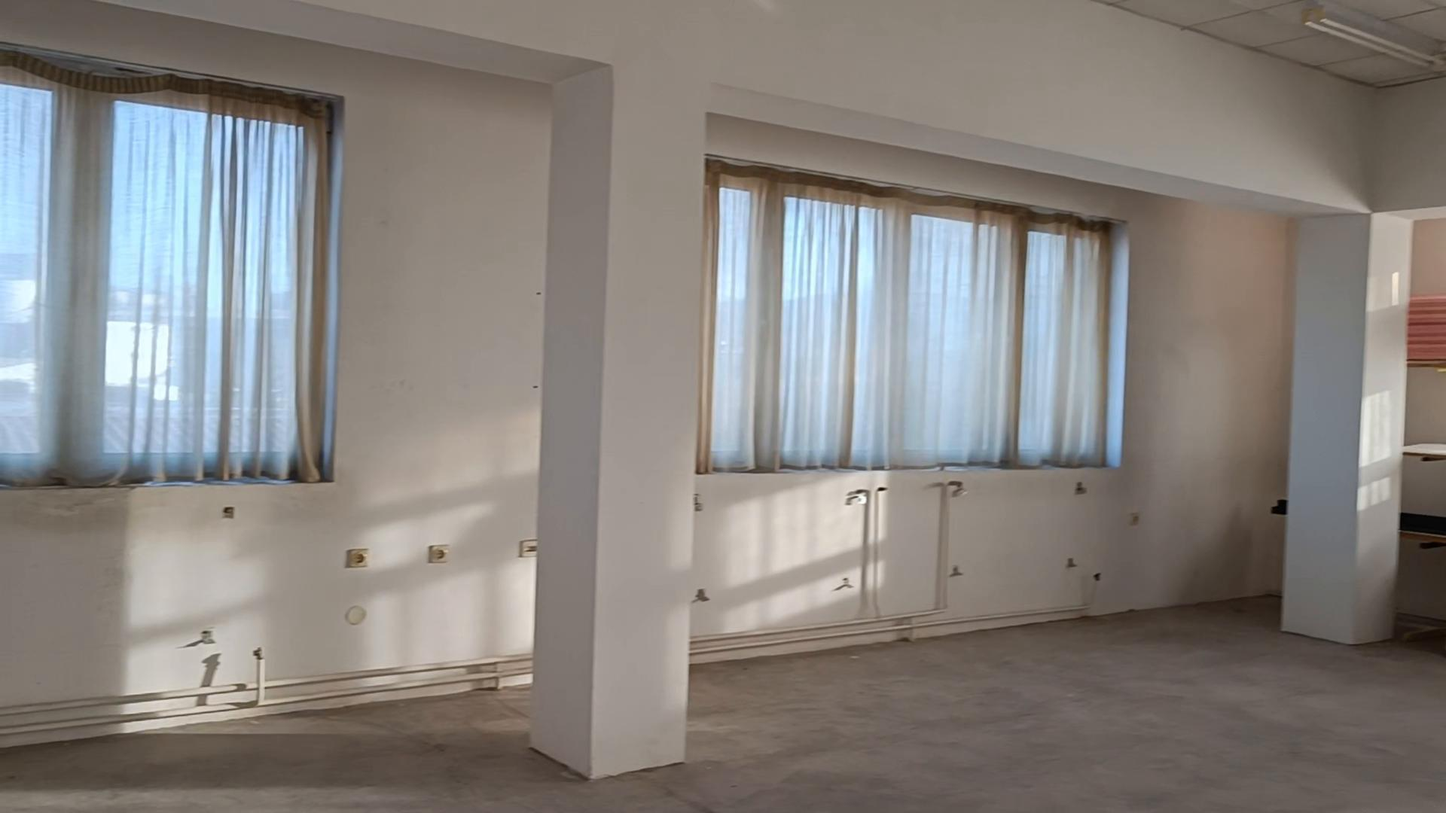ceiling: (1110, 4, 1441, 83)
floor: (0, 598, 1445, 812)
wall: (98, 0, 1442, 779), (0, 0, 547, 723), (690, 206, 1287, 644)
